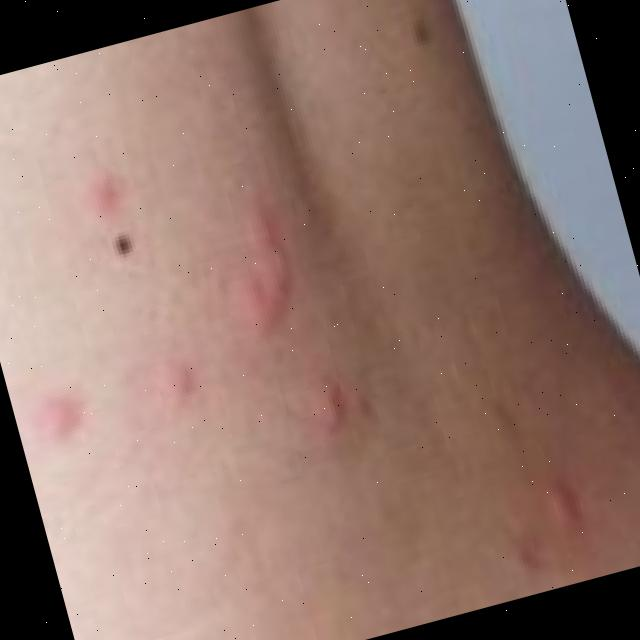kan emici bocekler: (486, 437, 621, 591), (199, 183, 318, 348), (280, 345, 401, 454), (55, 136, 158, 251), (133, 324, 230, 433), (15, 374, 109, 484)
